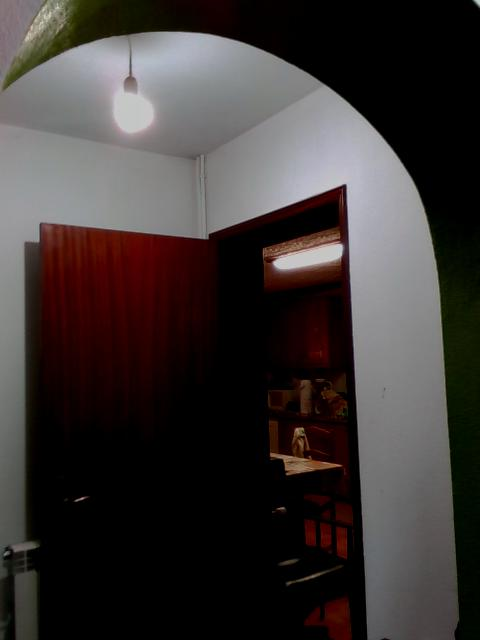open_door: (206, 182, 367, 638)
